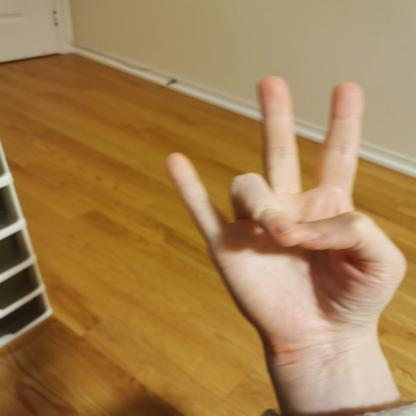seven: (154, 72, 416, 361)
